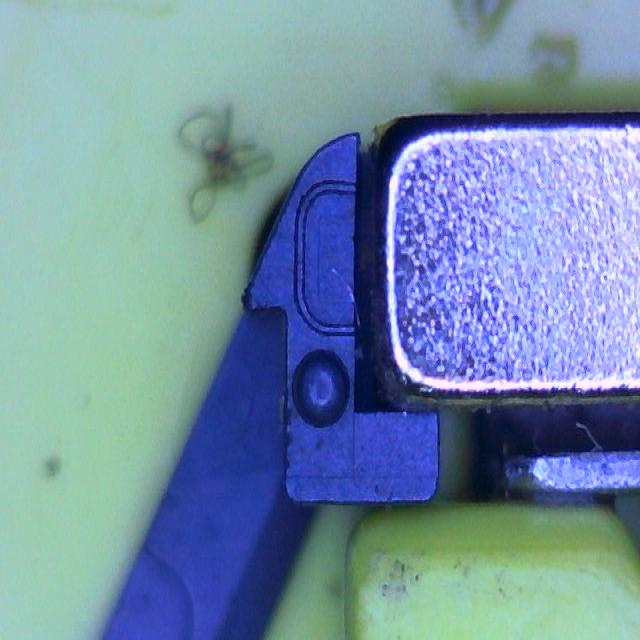noResin: (293, 177, 362, 339)
